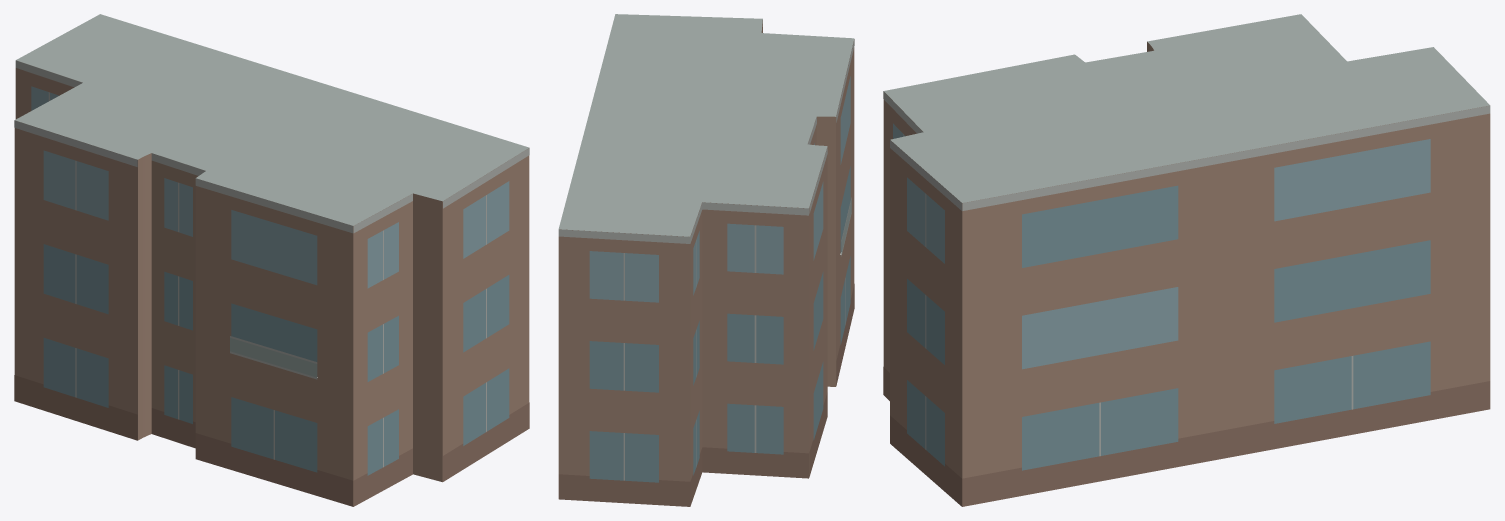
Rendered from survey-upis-32680555.glb.
The picture shows the model from 3 angles, left to right: view 1: azimuth 30°, elevation 25°; view 2: azimuth 150°, elevation 25°; view 3: azimuth 270°, elevation 25°; orthographic projection. The views are drawn at different scales.
Visible parts, largest first — view 1: survey-upis-32680555.tmp; view 2: survey-upis-32680555.tmp; view 3: survey-upis-32680555.tmp.
Boxes of the visible parts, x1,y1,x2,y2 form: survey-upis-32680555.tmp: (14,14,529,506); survey-upis-32680555.tmp: (558,14,854,506); survey-upis-32680555.tmp: (883,14,1490,506).
Bounding box in the file's own units: 12.15 × 9.1 × 16.48.
